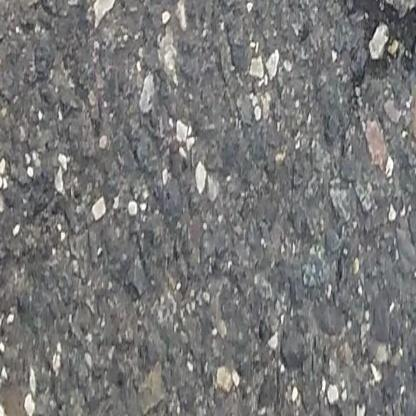Cracks: (330, 0, 416, 85)
